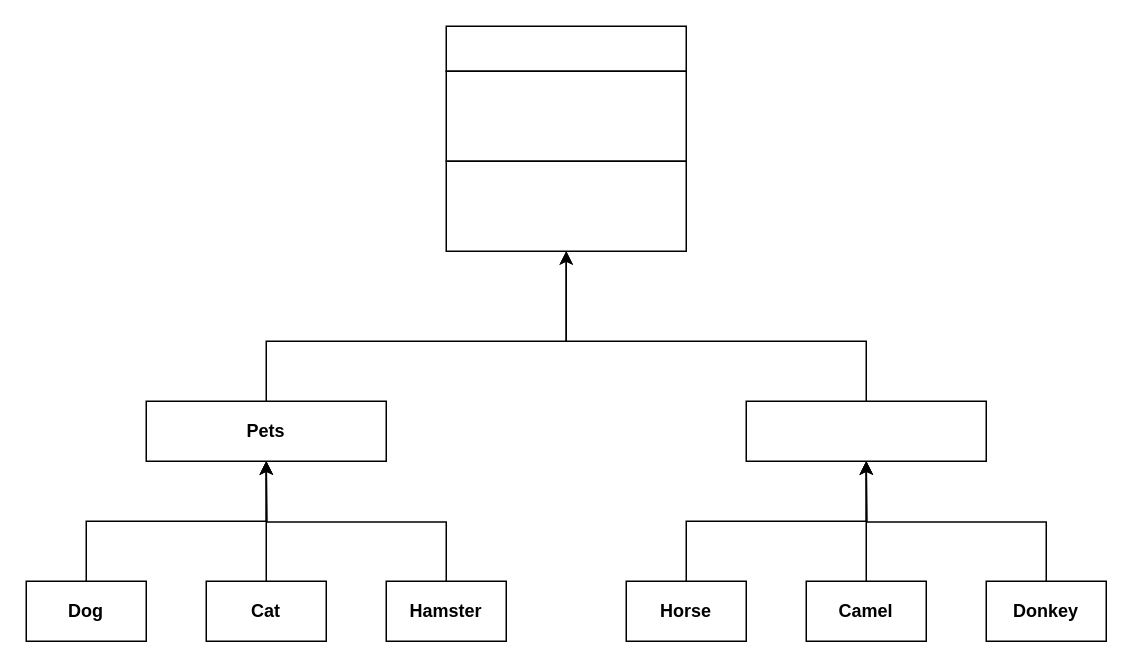
Some shapes in this 1133 by 668 pixel diagram are drawn without their labels. Here are the shapes that lost their labels. From the top down, the centre of each, then its label:
At point 565,48: "Animals".
At point 565,115: "- name: String - dateOfBirth: Date - commandsExecuted: int".
At point 565,205: "+ eat() + sleep() + makeSound()".
At point 865,430: "PackAnimals".
